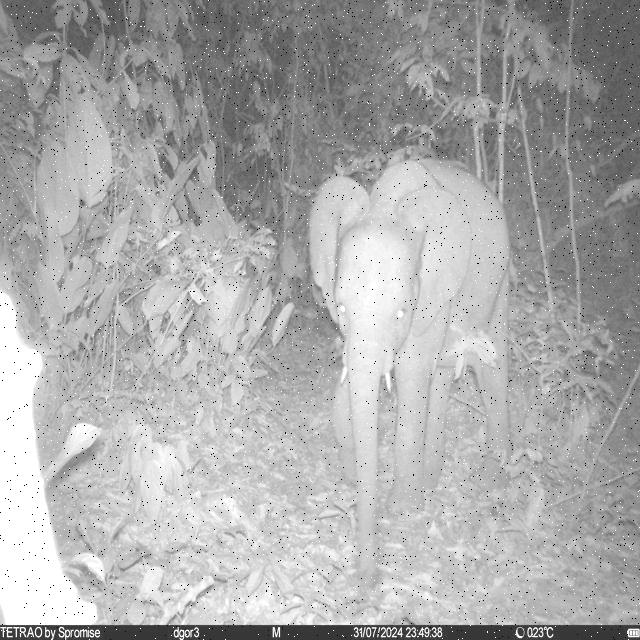calf: (306, 157, 514, 590)
ear: (393, 185, 472, 338), (305, 178, 371, 324)
tusk: (338, 362, 350, 388), (382, 371, 393, 395)
